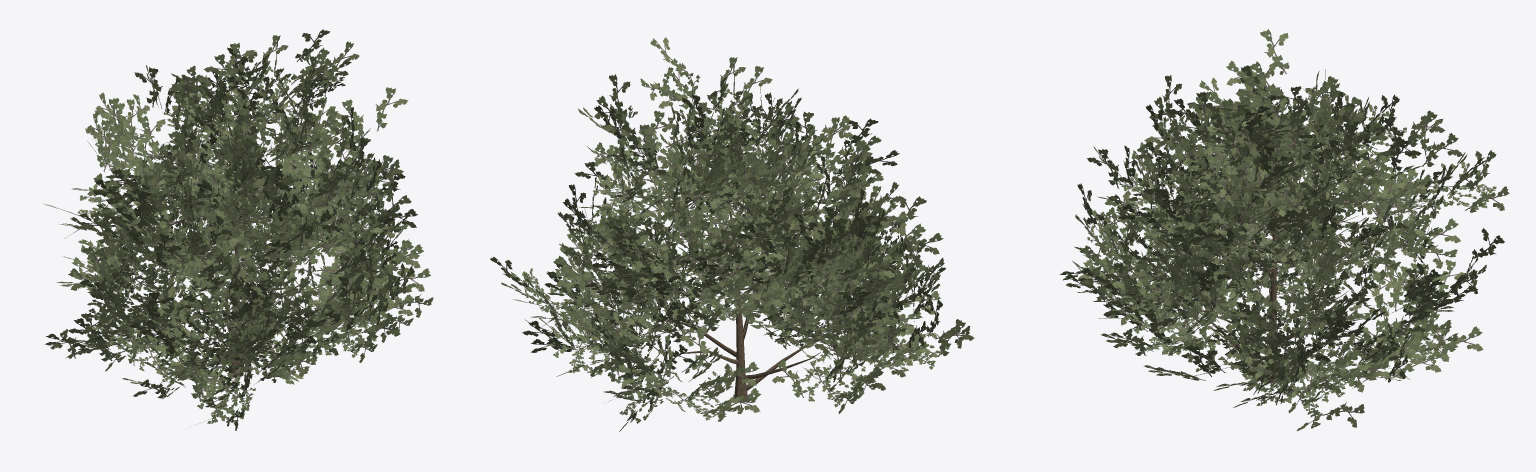
File: Fremontodendron_Californicum_Autumn_Adult.glb
The picture shows the model from 3 angles, left to right: view 1: azimuth 30°, elevation 25°; view 2: azimuth 150°, elevation 25°; view 3: azimuth 270°, elevation 25°; orthographic projection. The views are drawn at different scales.
Parts seen in each view (by area): view 1: Fremontodendron_Californicum_Autumn_Adult__LOD3; view 2: Fremontodendron_Californicum_Autumn_Adult__LOD3; view 3: Fremontodendron_Californicum_Autumn_Adult__LOD3.
Part boxes in pixels (x1=…): Fremontodendron_Californicum_Autumn_Adult__LOD3: x1=43, y1=29, x2=433, y2=430; Fremontodendron_Californicum_Autumn_Adult__LOD3: x1=490, y1=37, x2=974, y2=431; Fremontodendron_Californicum_Autumn_Adult__LOD3: x1=1059, y1=29, x2=1509, y2=430.
Size of the model in its own units: 3.44 by 2.32 by 3.05.
Materials: 2 (2 with a texture image).
